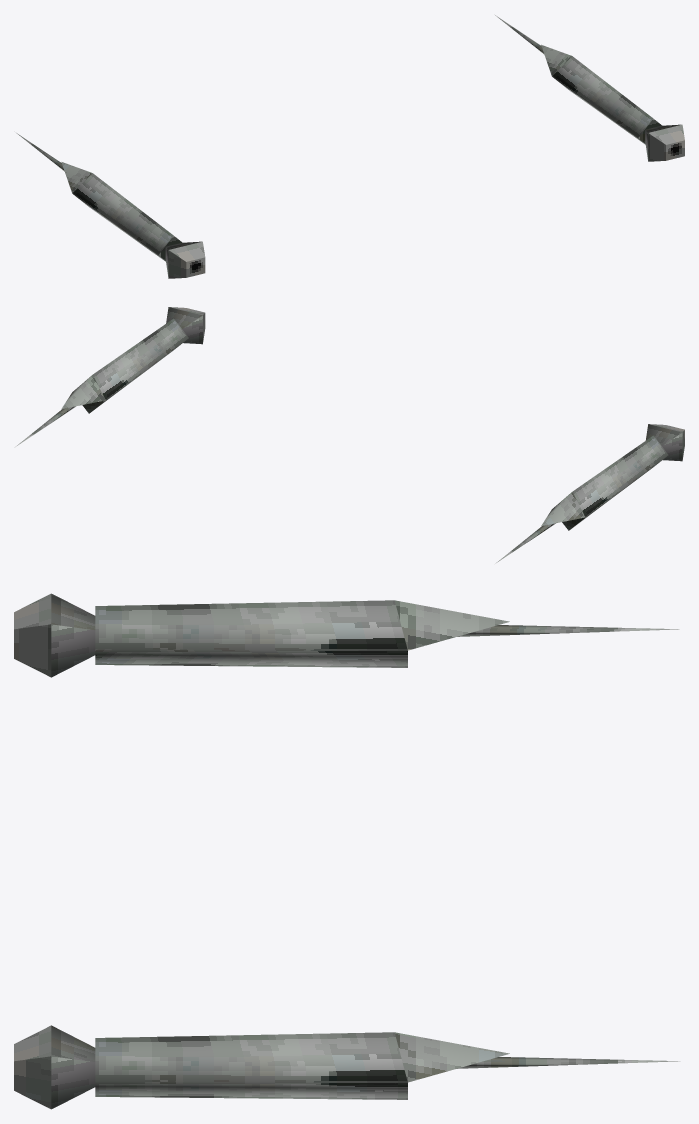
File: awing_weapon_s03_l3.fbx
3 views of the same model, one above another, from view 1: azimuth 30°, elevation 25°; view 2: azimuth 150°, elevation 25°; view 3: azimuth 270°, elevation 25° (orthographic). The views are drawn at different scales.
Parts seen in each view (by area): view 1: mesh_node; view 2: mesh_node; view 3: mesh_node.
Boxes of the visible parts, box(x1,y1,x2,y2) form: mesh_node: box(16, 15, 684, 278); mesh_node: box(15, 307, 684, 563); mesh_node: box(14, 593, 680, 1109).
Bounding box in the file's own units: 9.31 × 0.6347 × 5.7.
